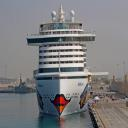cruises: (25, 5, 98, 120)
